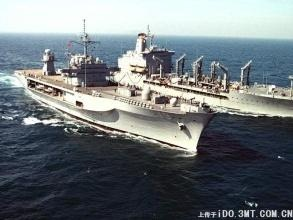warship: (14, 50, 214, 156), (118, 29, 293, 120)
